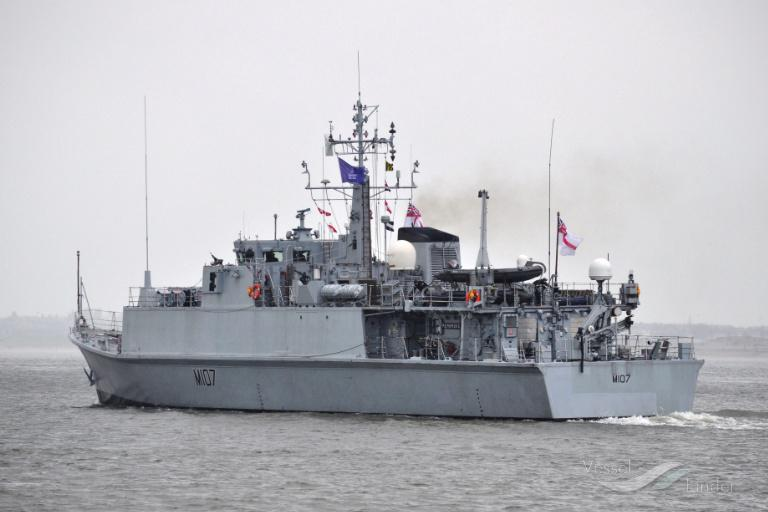OCR: (183, 364, 223, 394)
